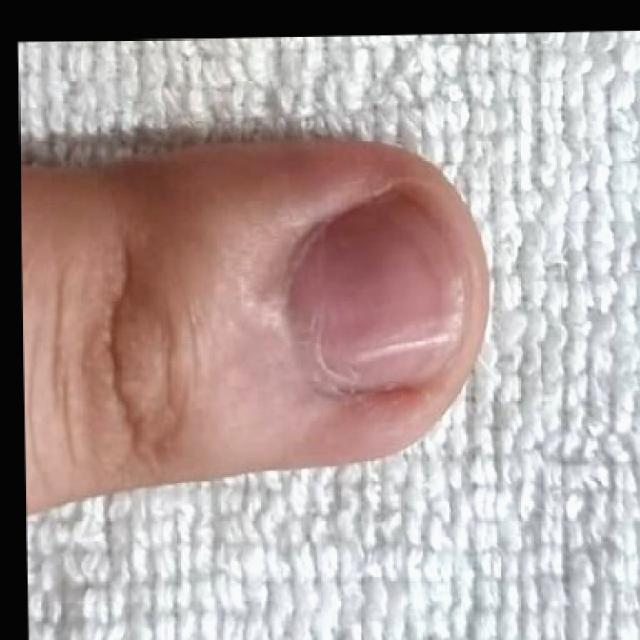Nail: (287, 176, 467, 397)
